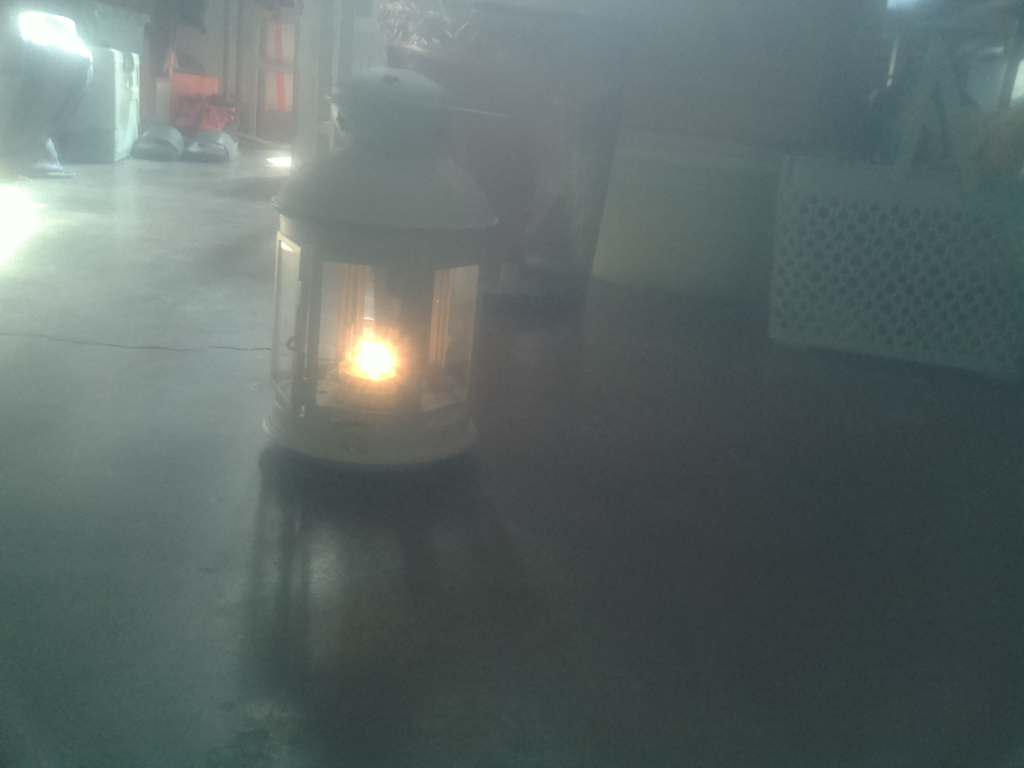fire: (317, 300, 447, 412)
